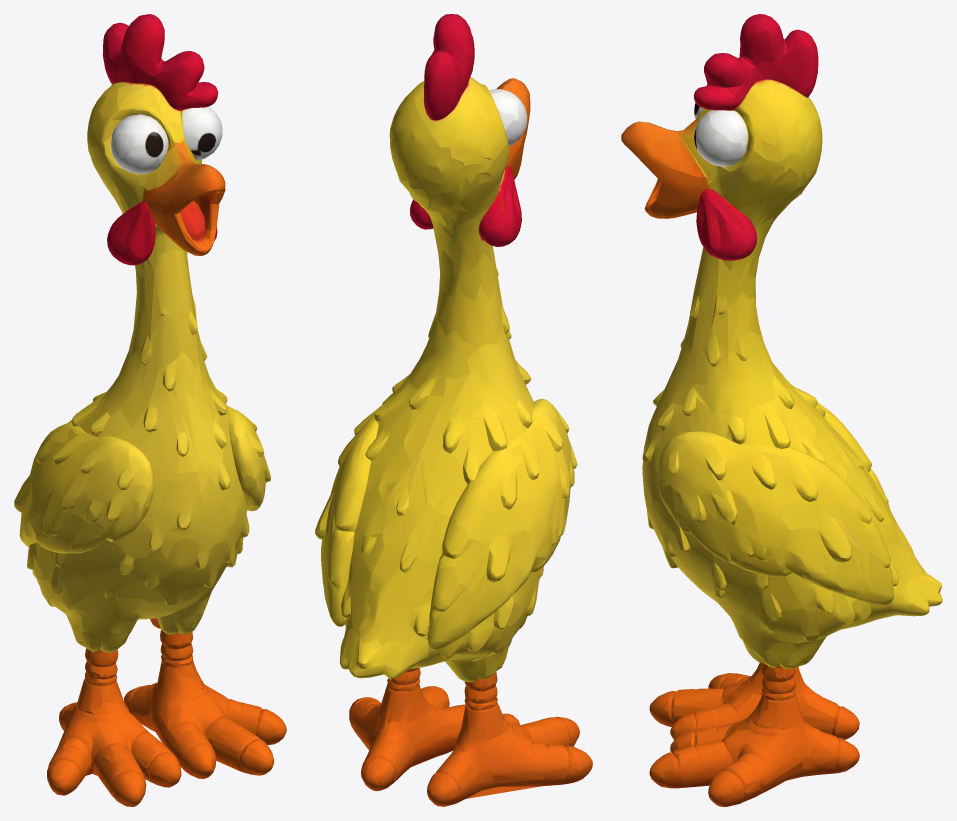
Rendered from rubber_chicken.glb.
3 renders of one model, left to right at view 1: azimuth 30°, elevation 25°; view 2: azimuth 150°, elevation 25°; view 3: azimuth 270°, elevation 25°, orthographic.
Parts seen in each view (by area): view 1: Mesh_0; view 2: Mesh_0; view 3: Mesh_0.
Boxes of the visible parts, x1=… form: Mesh_0: x1=14, y1=14, x2=286, y2=806; Mesh_0: x1=315, y1=14, x2=592, y2=806; Mesh_0: x1=621, y1=14, x2=942, y2=806.
Bounding box in the file's own units: 0.3315 × 1 × 0.3942.
Materials: 1 (1 with a texture image).
